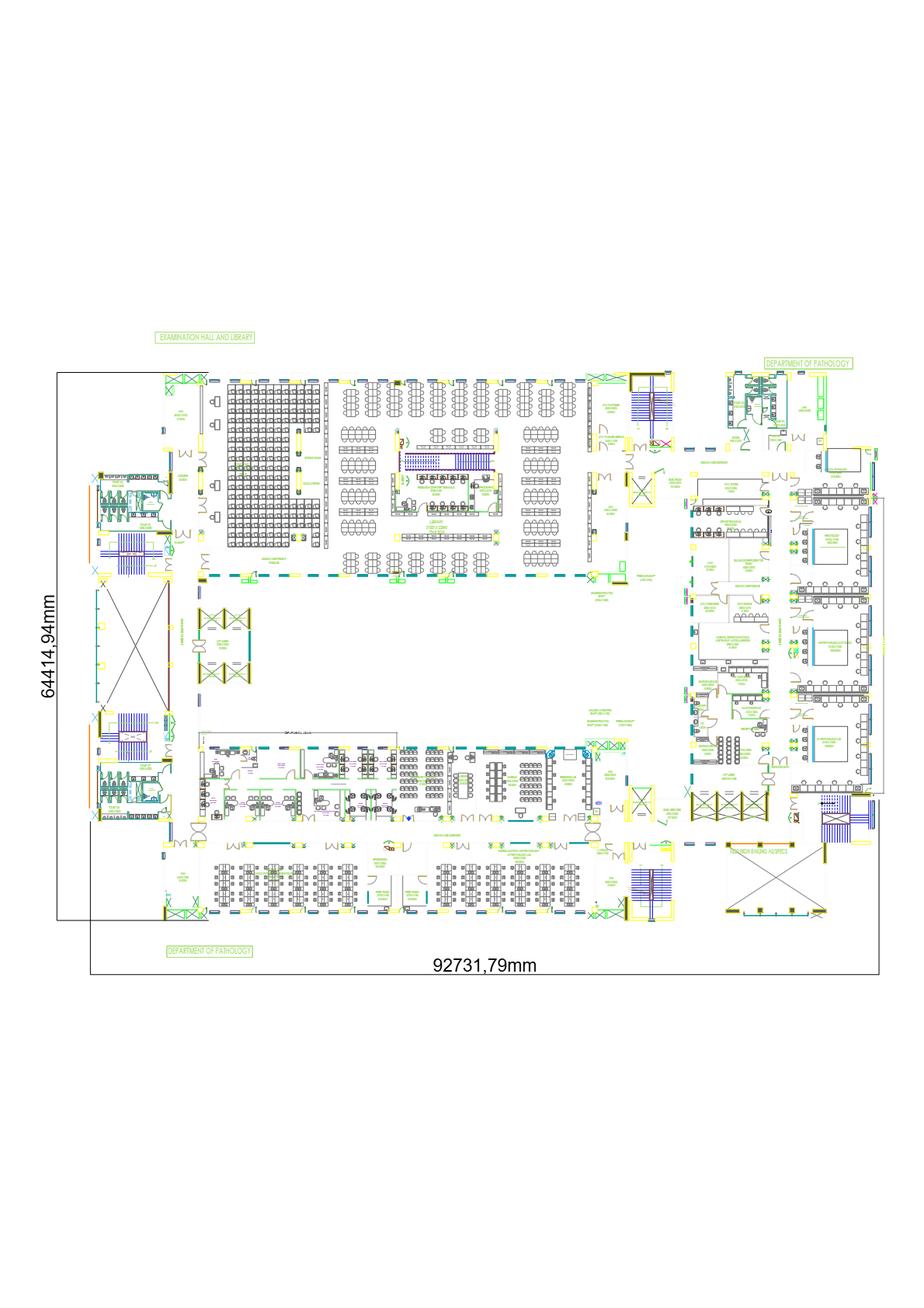door: (190, 822, 207, 841), (584, 823, 601, 841), (761, 772, 776, 786), (192, 639, 206, 653), (200, 553, 210, 569), (772, 756, 788, 766), (624, 454, 634, 470), (198, 497, 207, 513), (772, 472, 788, 481), (802, 511, 814, 523), (802, 708, 814, 720), (198, 452, 207, 467), (752, 414, 763, 426), (790, 607, 802, 618), (802, 610, 814, 621), (175, 530, 191, 538), (790, 573, 801, 584), (790, 511, 801, 522), (790, 708, 801, 719), (164, 744, 173, 757), (164, 558, 173, 571), (178, 450, 192, 458), (710, 581, 718, 595), (598, 473, 612, 481), (610, 805, 624, 813), (554, 842, 568, 850), (461, 814, 475, 822), (456, 842, 470, 850), (226, 842, 240, 850), (759, 551, 770, 561), (759, 624, 770, 634), (790, 673, 801, 683), (707, 718, 718, 728), (758, 754, 769, 764), (634, 443, 647, 451), (564, 814, 577, 822), (633, 842, 646, 850), (612, 852, 625, 860), (479, 814, 492, 822), (302, 814, 315, 822), (174, 840, 187, 848), (740, 441, 750, 451), (776, 441, 786, 451), (790, 477, 800, 487), (718, 684, 728, 694), (708, 688, 718, 698), (732, 709, 742, 719), (708, 736, 718, 746), (752, 594, 762, 604), (402, 842, 412, 852), (418, 875, 428, 885), (367, 875, 377, 885), (286, 769, 296, 779), (418, 502, 428, 512), (759, 483, 770, 492), (791, 434, 805, 441), (790, 798, 798, 810), (325, 842, 338, 849), (402, 815, 415, 822), (767, 420, 777, 429), (759, 507, 769, 516), (759, 709, 769, 718), (718, 595, 728, 604), (599, 424, 608, 434), (599, 441, 608, 451), (304, 769, 313, 779), (231, 769, 240, 779), (162, 764, 171, 773), (488, 502, 497, 511), (162, 520, 171, 529), (737, 419, 747, 427), (160, 795, 168, 804), (792, 626, 801, 634), (792, 527, 801, 535), (700, 709, 709, 717), (792, 724, 800, 733), (160, 490, 168, 499), (768, 377, 776, 385), (224, 779, 230, 789), (112, 491, 119, 499), (121, 491, 128, 499), (102, 514, 109, 522), (120, 514, 127, 522), (111, 514, 118, 522), (101, 772, 108, 780), (111, 772, 118, 780), (120, 772, 127, 780), (101, 795, 108, 803), (110, 795, 117, 803), (102, 491, 109, 499), (746, 386, 753, 394), (768, 387, 776, 394), (605, 844, 613, 851), (119, 796, 126, 803), (349, 380, 356, 387), (497, 380, 504, 387), (746, 377, 753, 384), (240, 755, 247, 762), (131, 797, 138, 803), (251, 380, 257, 387), (448, 380, 454, 387), (547, 380, 553, 387), (690, 499, 697, 505), (399, 746, 405, 753), (547, 906, 553, 913), (251, 571, 257, 577), (400, 380, 406, 386), (865, 787, 871, 793), (399, 571, 405, 577), (251, 907, 257, 913), (449, 746, 454, 753), (498, 906, 503, 913), (399, 906, 404, 913), (350, 906, 355, 913), (301, 906, 306, 913), (865, 450, 871, 455), (251, 746, 256, 752), (449, 571, 454, 577), (587, 571, 592, 577), (161, 807, 167, 812), (132, 491, 137, 497), (301, 380, 306, 385), (202, 380, 207, 385), (203, 907, 207, 913), (163, 482, 169, 486)
